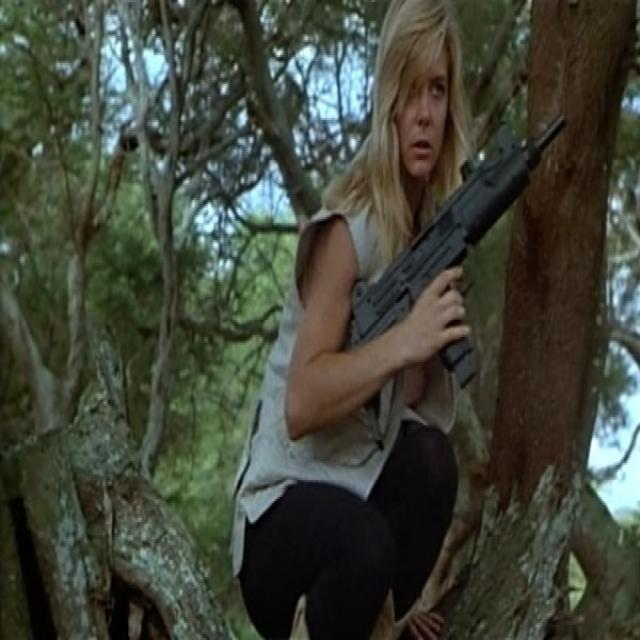rifle: (347, 104, 574, 457)
